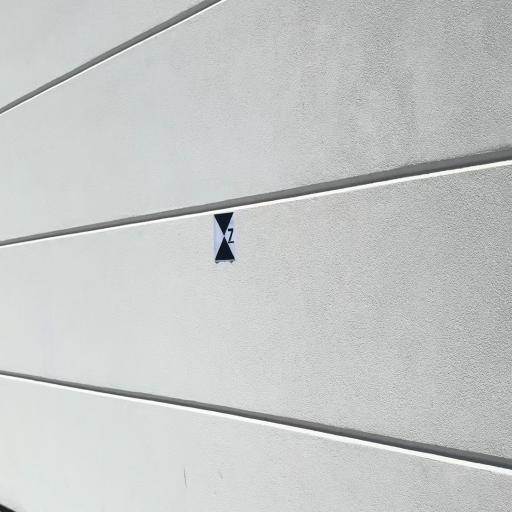target7: (214, 210, 235, 260)
